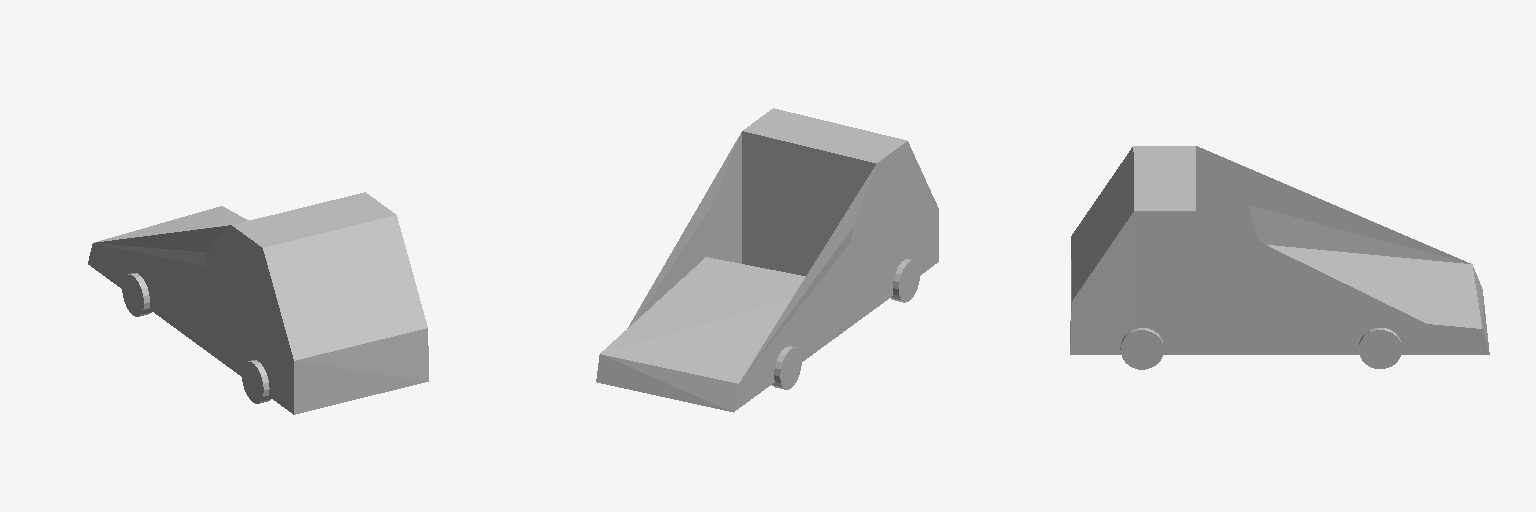
The model's file is hauler.obj.
3 renders of one model, left to right at view 1: azimuth 30°, elevation 25°; view 2: azimuth 150°, elevation 25°; view 3: azimuth 270°, elevation 25°, orthographic.
Parts seen in each view (by area): view 1: Car_09; view 2: Car_09; view 3: Car_09.
Part boxes in pixels (x1,y1,x2,y2): Car_09: (88,192,428,414); Car_09: (596,108,938,412); Car_09: (1070,146,1489,369).
Size of the model in its own units: 52.14 by 53.11 by 130.